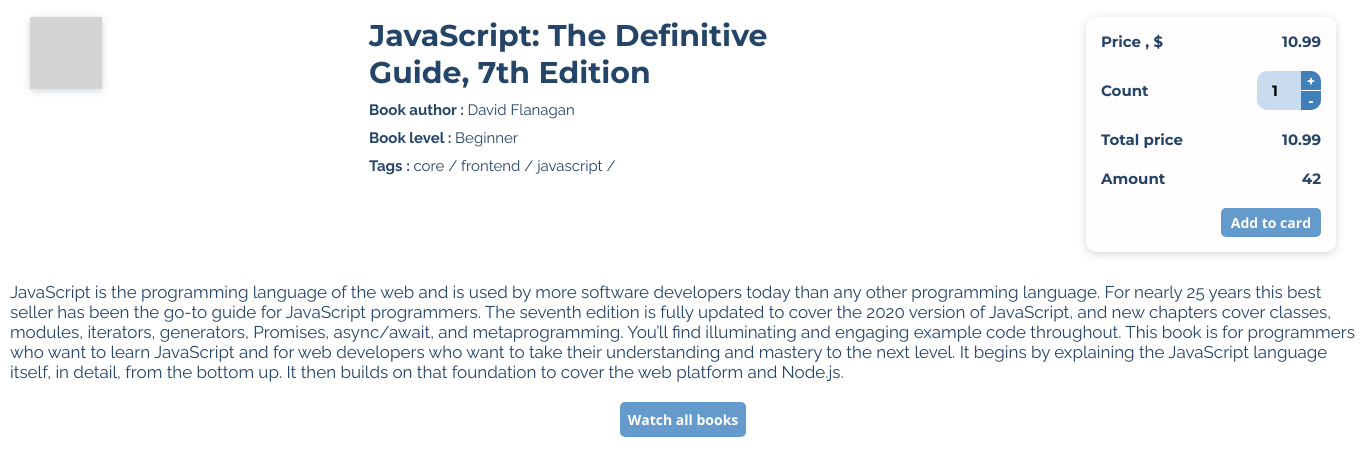
Test: SpecificBook page testing › Decrement testing
Step 1. Click the button with test id "increment" → (1311, 80), box [1301,71,1321,90]
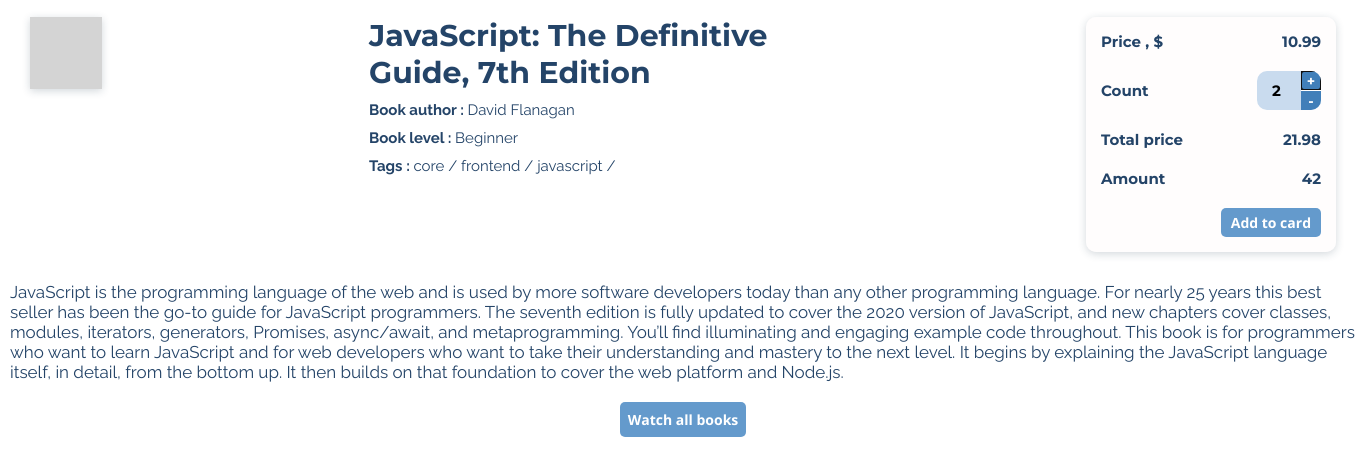
Expected: the number field with test id "counter" holds "2", [1257,71,1321,110]
Step 2. Click the button with test id "decrement" → (1311, 100), box [1301,91,1321,110]
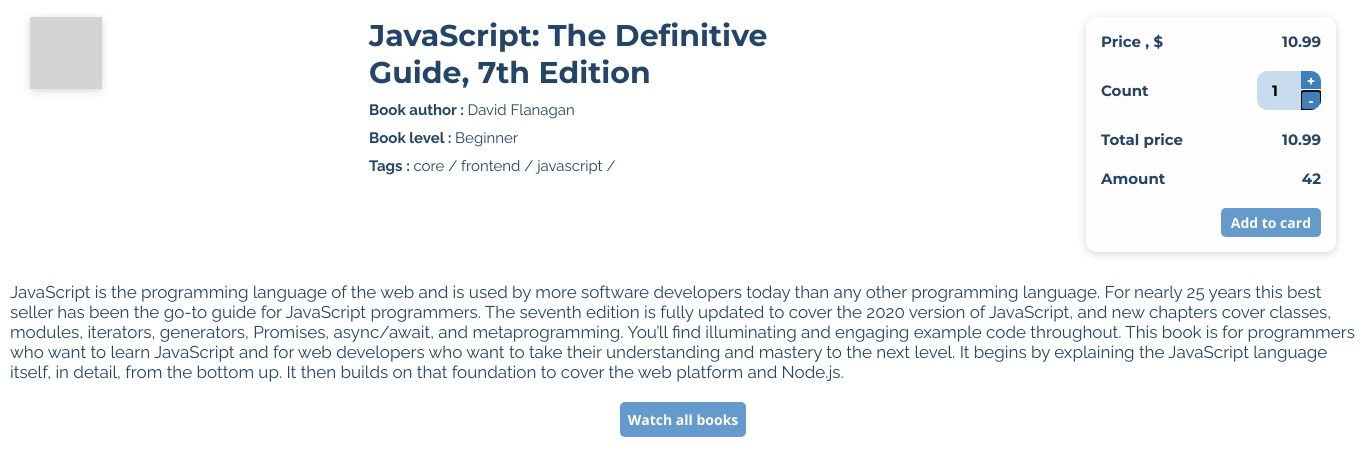
Expected: the number field with test id "counter" holds "1", [1257,71,1321,110]
